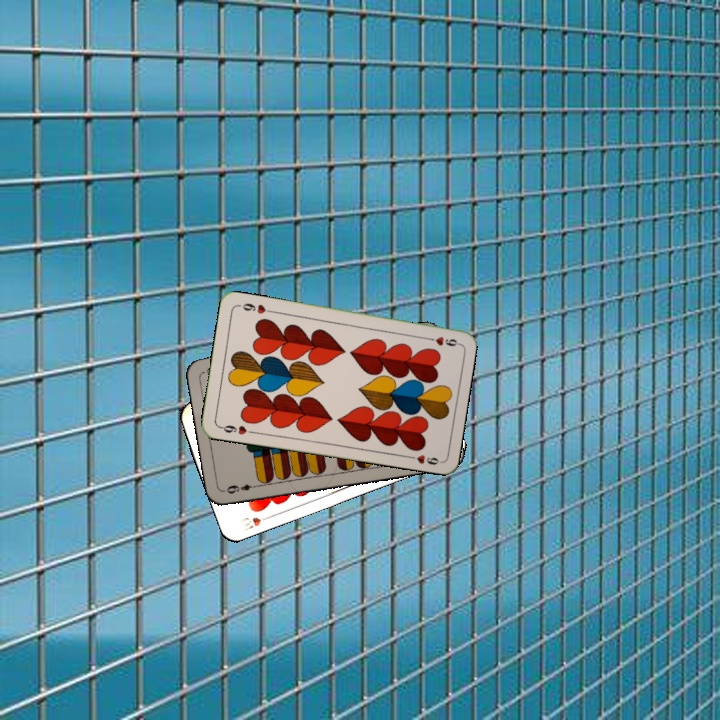E9: (221, 480, 261, 496)
H10: (237, 511, 274, 534)
H9: (420, 332, 461, 349), (215, 421, 256, 437)
